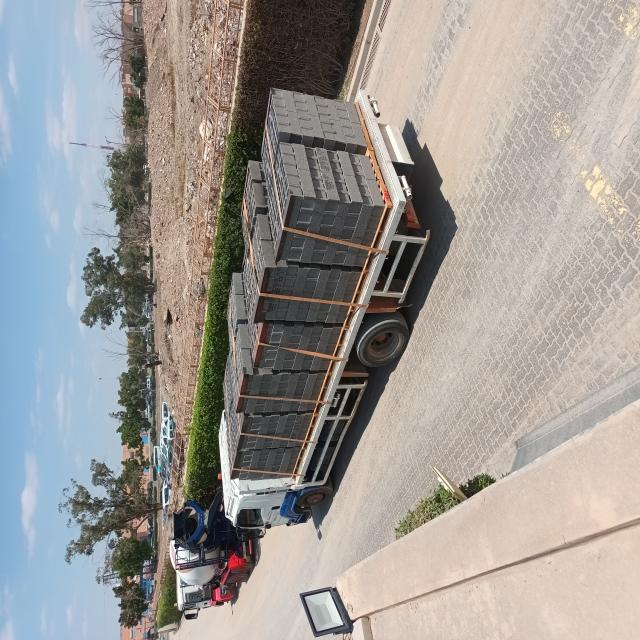bricks: (225, 89, 391, 481)
